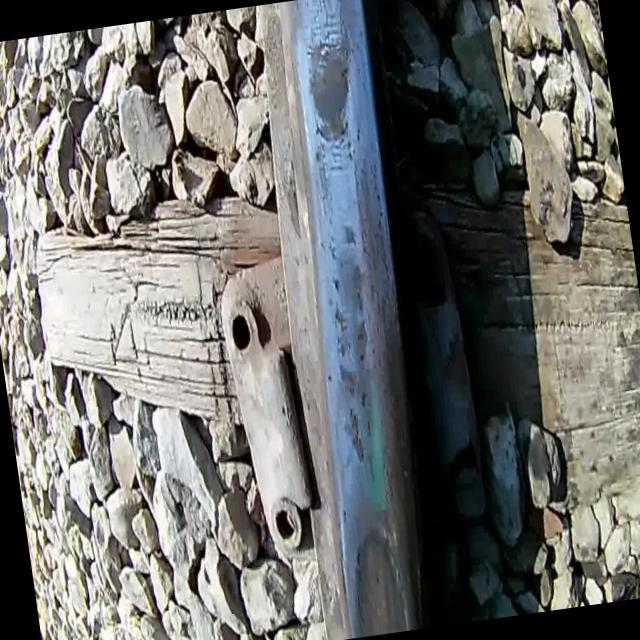Cracks: (345, 536, 374, 638)
Squats: (312, 213, 398, 482), (287, 12, 377, 179), (336, 516, 418, 638)
